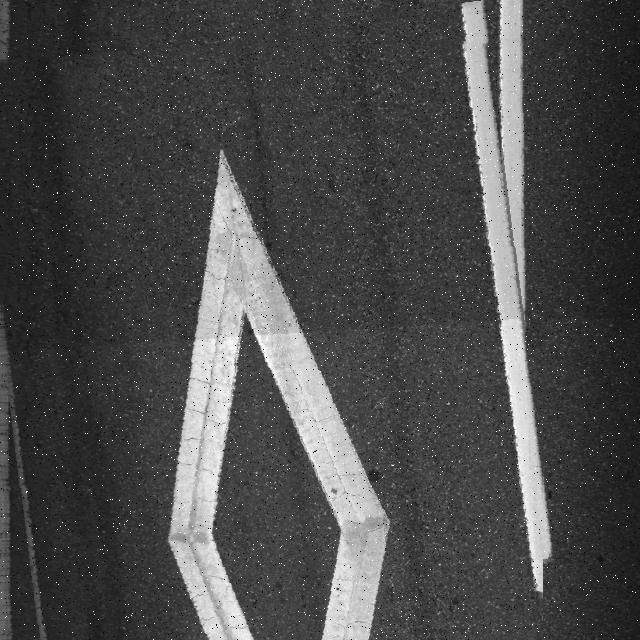diamond: (0, 14, 543, 640)
